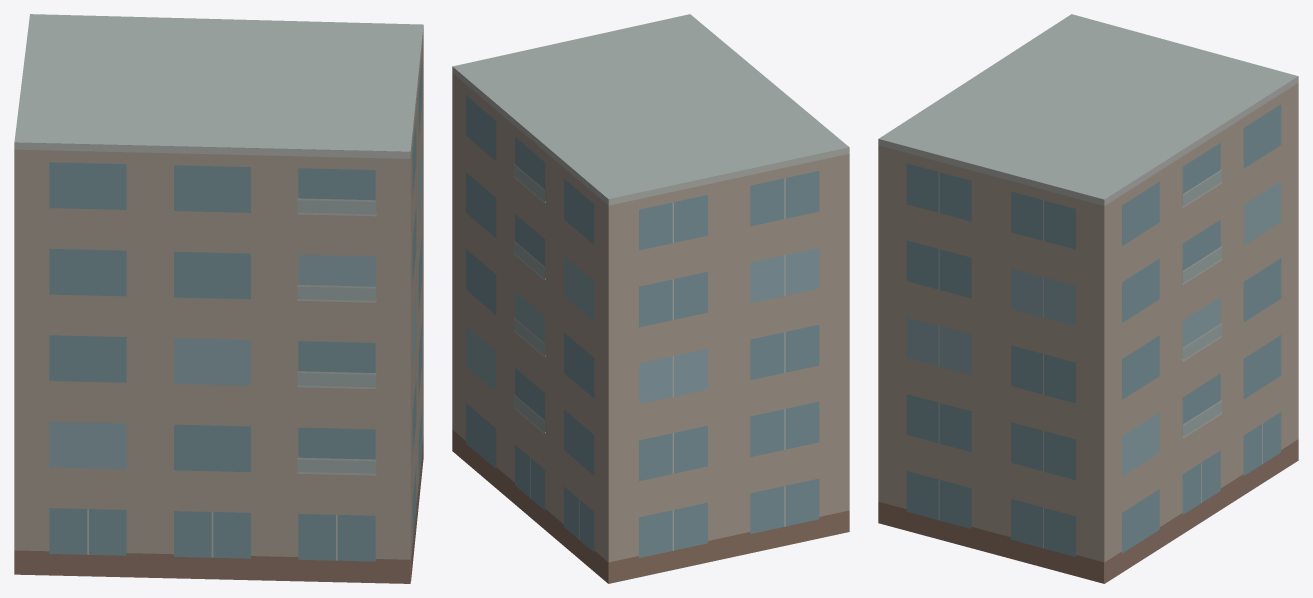
Rendered from survey-upis-32951765.glb.
3 renders of one model, left to right at view 1: azimuth 30°, elevation 25°; view 2: azimuth 150°, elevation 25°; view 3: azimuth 270°, elevation 25°, orthographic. The views are drawn at different scales.
Visible parts, largest first — view 1: survey-upis-32951765.tmp; view 2: survey-upis-32951765.tmp; view 3: survey-upis-32951765.tmp.
Boxes of the visible parts, x1,y1,x2,y2 form: survey-upis-32951765.tmp: (14,14,423,583); survey-upis-32951765.tmp: (452,14,849,583); survey-upis-32951765.tmp: (878,14,1298,583).
Size of the model in its own units: 15.08 by 14.55 by 14.42.
